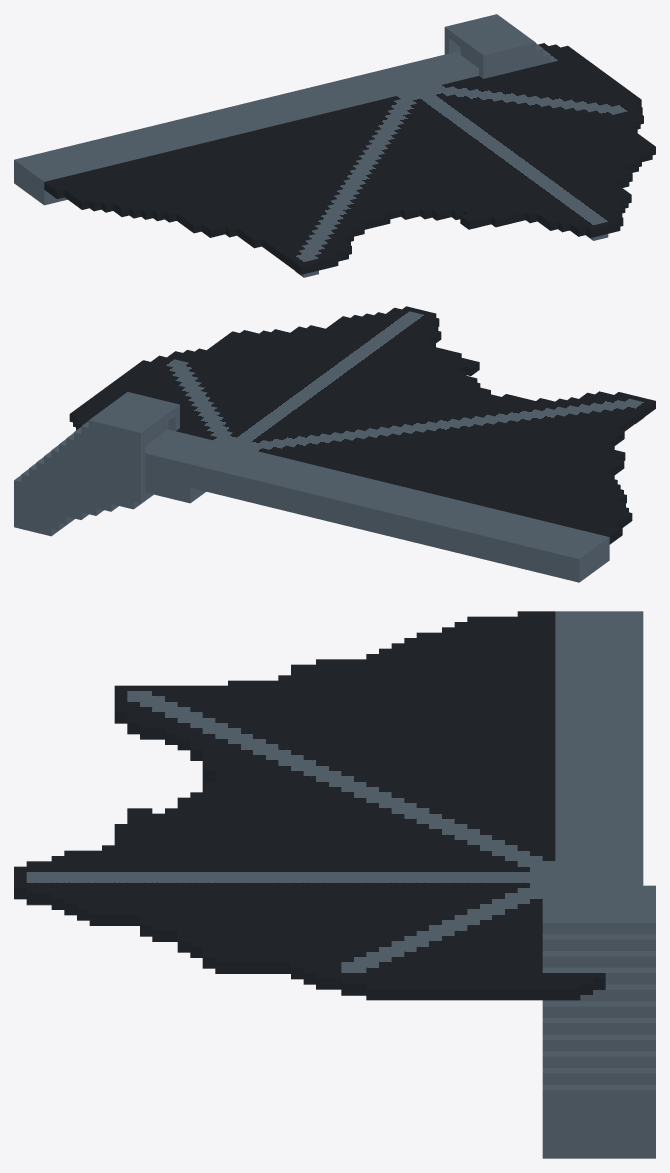
The model's file is 末影龙翅膀-左.gltf.
The picture shows the model from 3 angles, top to bottom: view 1: azimuth 30°, elevation 25°; view 2: azimuth 150°, elevation 25°; view 3: azimuth 270°, elevation 25°; orthographic projection. The views are drawn at different scales.
Parts seen in each view (by area): view 1: Object; view 2: Object; view 3: Object.
Part boxes in pixels (left/top/right/bottom): Object: left=14, top=14, right=655, bottom=277; Object: left=14, top=306, right=655, bottom=582; Object: left=14, top=611, right=655, bottom=1158.
Size of the model in its own units: 75 by 16 by 51.
1 material, 1 textured.
